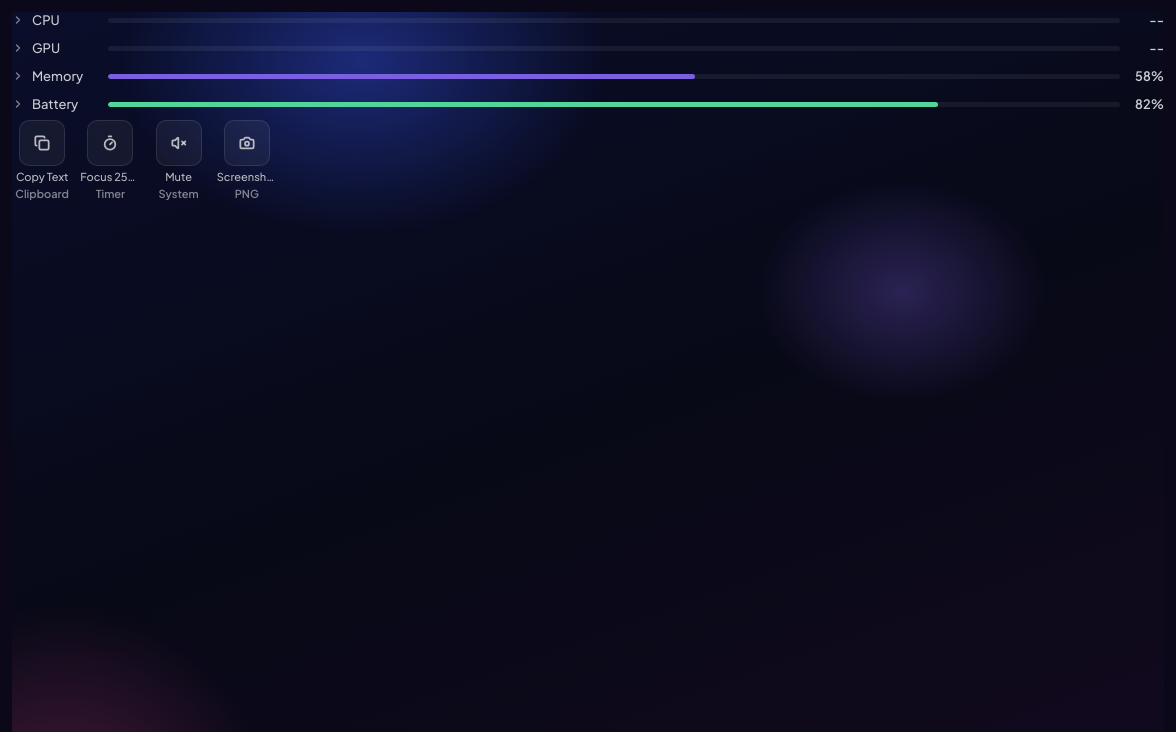
SystemToolsWidget live › renders live cpu/mem/battery with -- for unknown and keeps tools
Expected: the text "--" in the row of "CPU" is shown, top-left (1149, 12), bottom-right (1164, 28)
Click the text "Memory": (60, 76) top-left (32, 68), bottom-right (88, 84)
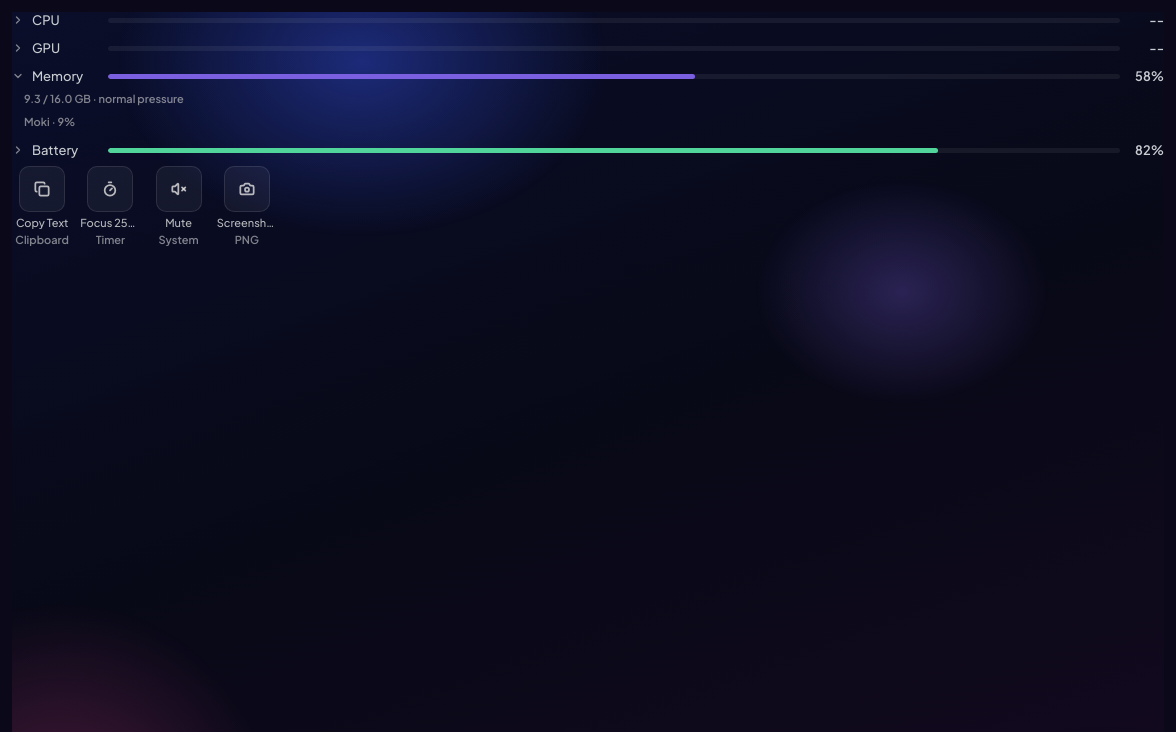
Expected: the button "Copy Text Clipboard" is shown, top-left (12, 166), bottom-right (72, 246)
Expected: the text "9.3 / 16.0 GB · normal pressure" is shown, top-left (24, 92), bottom-right (184, 105)
